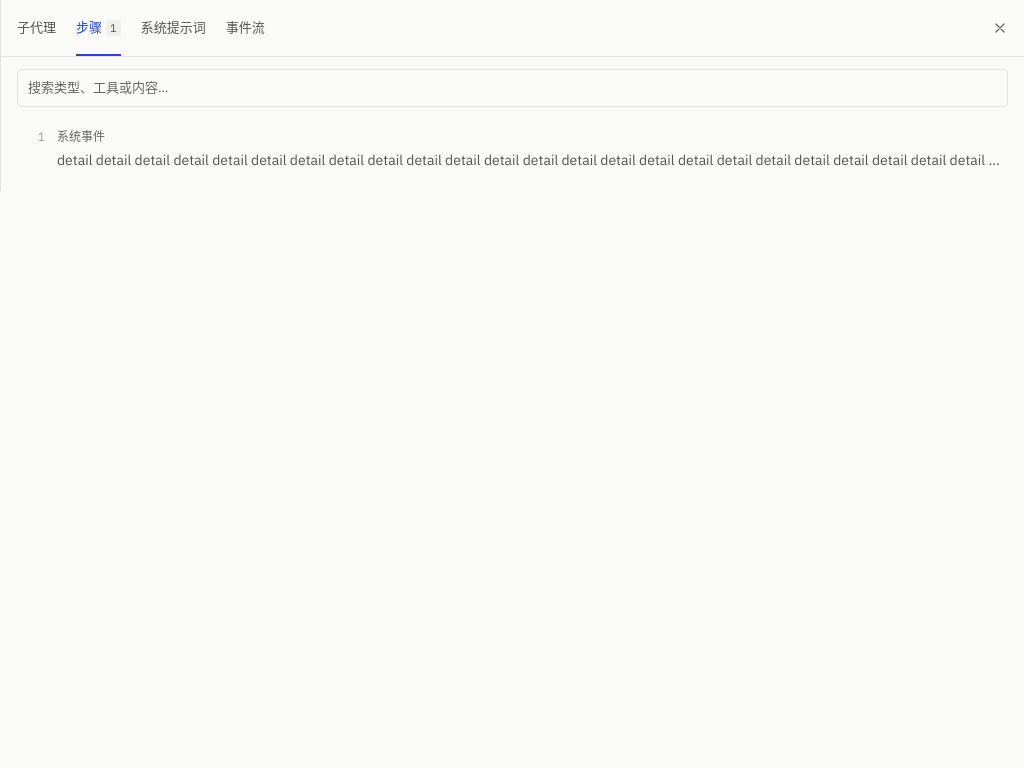
Test: keeps the directory open when Escape is pressed inside step details
Click the button "系统事件" at point(81, 136), box [57,126,1002,146]
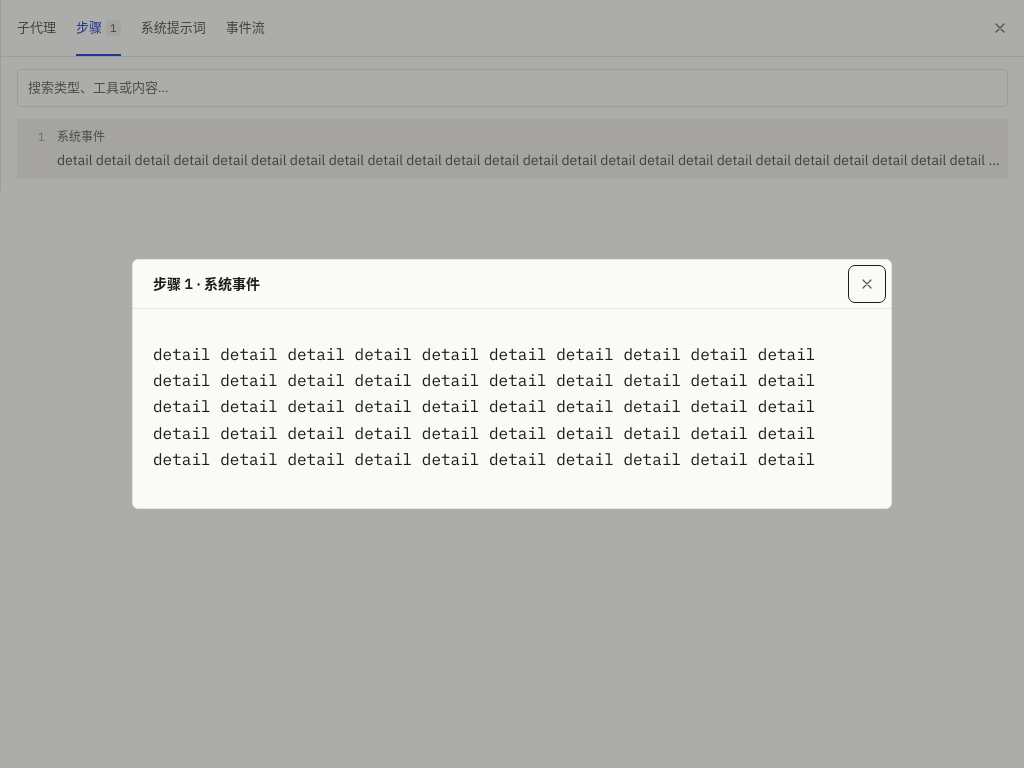
Press Escape in the dialog, box [132,258,892,510]
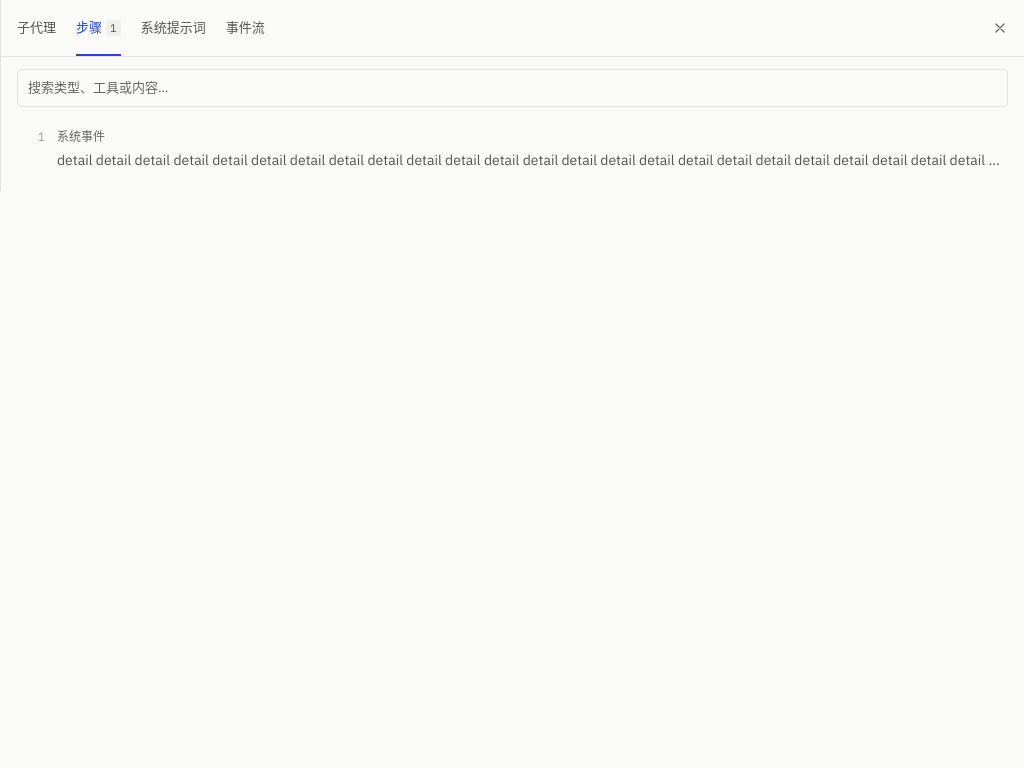
Expected: the element with test id "session-steps" is shown, [1,57,1023,191]
Result: the dialog is gone
